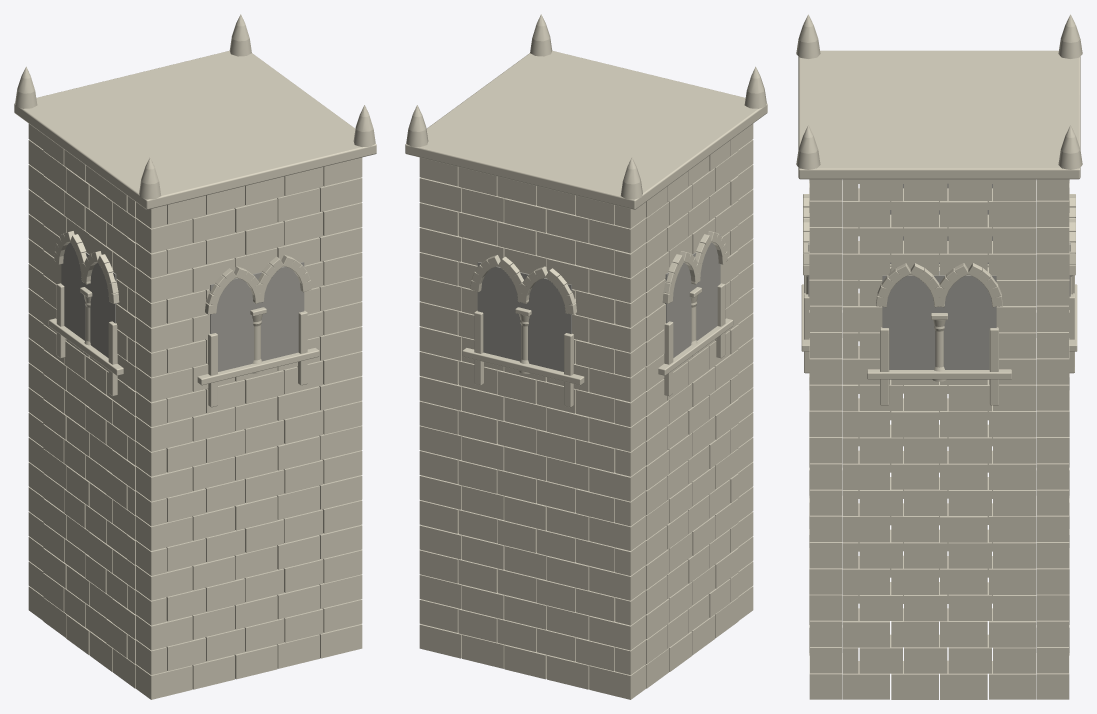
Rendered from bell-tower-section.glb.
3 renders of one model, left to right at view 1: azimuth 30°, elevation 25°; view 2: azimuth 150°, elevation 25°; view 3: azimuth 270°, elevation 25°, orthographic. The views are drawn at different scales.
Parts seen in each view (by area): view 1: bell-tower-section; view 2: bell-tower-section; view 3: bell-tower-section.
Part boxes in pixels (left/top/right/bottom): bell-tower-section: left=14, top=14, right=376, bottom=699; bell-tower-section: left=405, top=14, right=767, bottom=699; bell-tower-section: left=796, top=14, right=1082, bottom=699.
Size of the model in its own units: 3.76 by 8.33 by 3.76.
